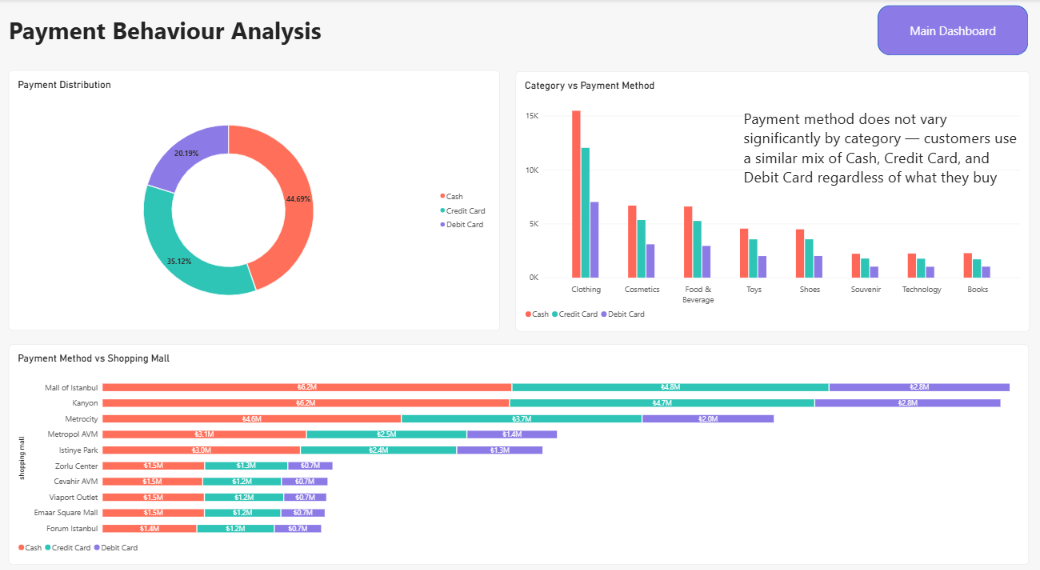

Layout of this report page (visuals, bound fields, positions):
{"tool":"powerbi","page":{"name":"Payment","canvas":[1920,1080],"ordinal":2},"visuals":[{"type":"barChart","title":"Payment Method vs Shopping Mall","fields":{"Y":["rawdata.Total Revenue"],"Series":["rawdata.payment method"],"Category":["rawdata.shopping mall"]},"box":[20.6,623.7,1846.3,399.3],"z":0},{"type":"donutChart","title":"Payment Distribution","fields":{"Category":["rawdata.payment method"],"Y":["CountNonNull(rawdata.invoice no)"]},"box":[20.6,127.6,889.2,471.4],"z":1000},{"type":"clusteredColumnChart","title":" Category vs Payment Method","fields":{"Category":["rawdata.Category"],"Y":["CountNonNull(rawdata.payment method)"],"Series":["rawdata.payment method"]},"box":[936.5,129.7,930.4,471.4],"z":2000},{"type":"textbox","box":[100,100,300,300],"z":3000},{"type":"textbox","box":[20.6,24.7,660.7,76.2],"z":4000},{"type":"textbox","box":[1350.3,197.6,500.2,183.2],"z":5000},{"type":"shape","box":[1593.1,10.3,272.3,90.8],"z":6000}]}

Visuals, with their boxes in screenshot pixels (x1, y1, x2, y2), scaled from the page's 1920x1080 canvas onto the 1040x570 screenshot:
"Payment Method vs Shopping Mall" barChart: box=[11, 329, 1011, 540]
"Payment Distribution" donutChart: box=[11, 67, 493, 316]
" Category vs Payment Method" clusteredColumnChart: box=[507, 68, 1011, 317]
textbox: box=[54, 53, 217, 211]
textbox: box=[11, 13, 369, 53]
textbox: box=[731, 104, 1002, 201]
shape: box=[863, 5, 1010, 53]
